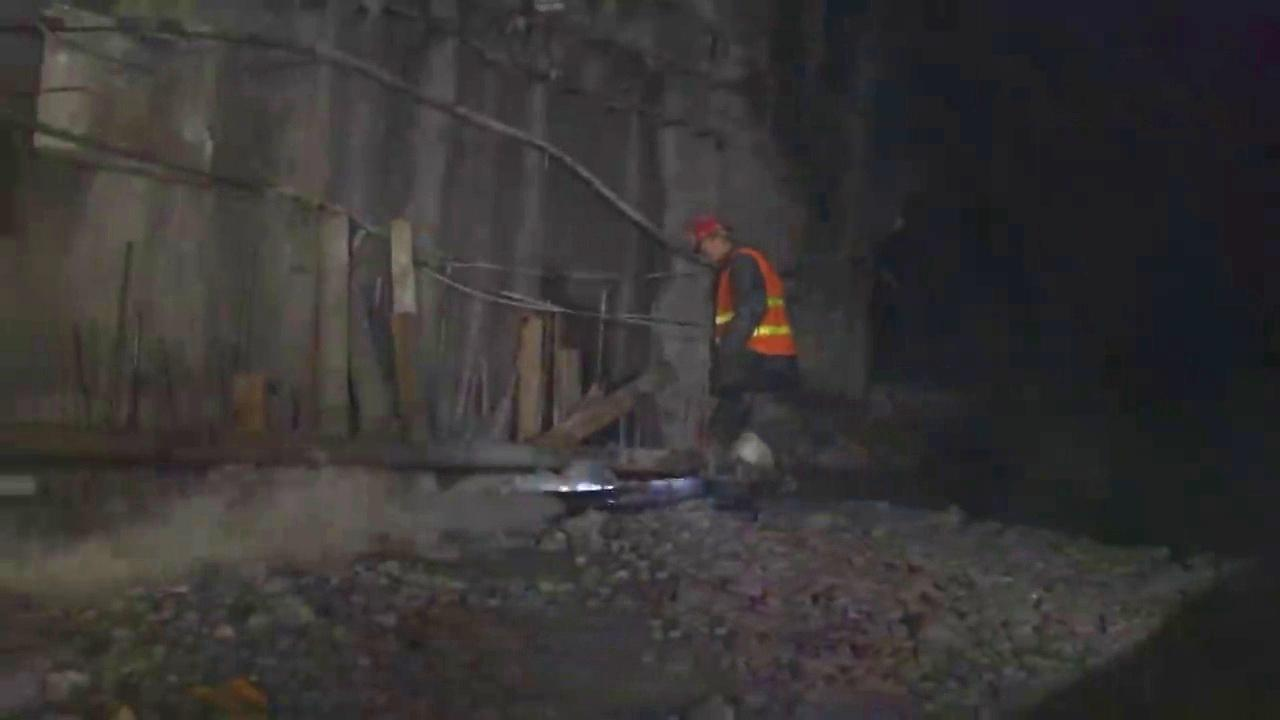helmet: (691, 214, 737, 264)
